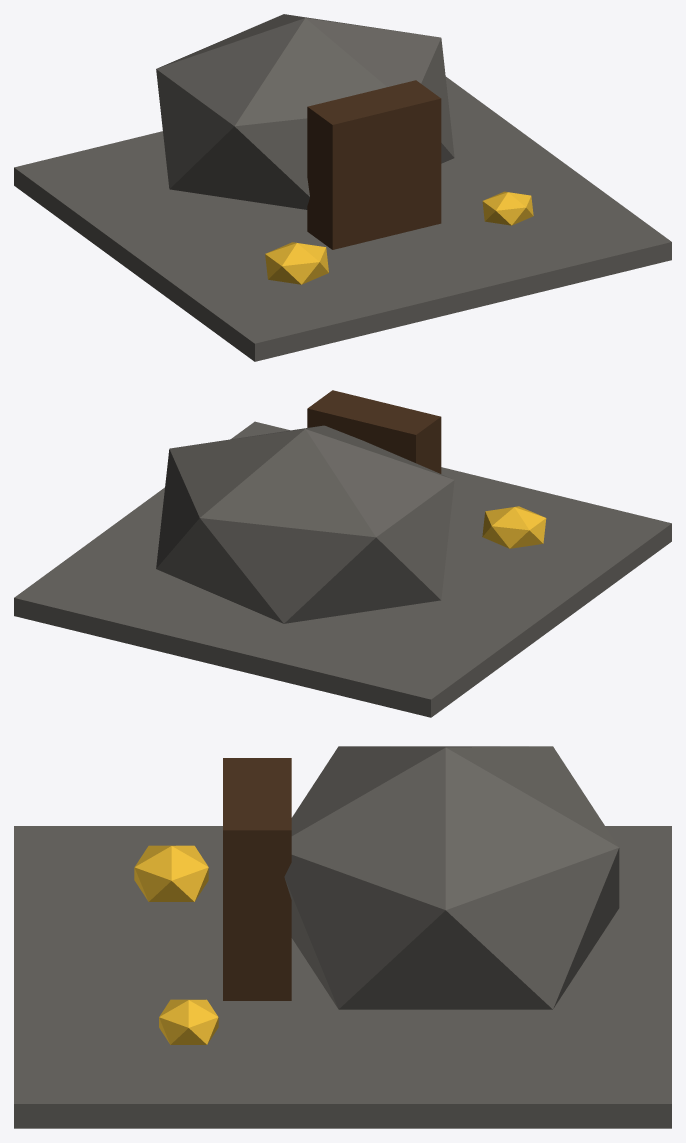
Rendered from goldmine.glb.
The picture shows the model from 3 angles, top to bottom: view 1: azimuth 30°, elevation 25°; view 2: azimuth 150°, elevation 25°; view 3: azimuth 270°, elevation 25°; orthographic projection. The views are drawn at different scales.
Parts seen in each view (by area): view 1: goldmine; view 2: goldmine; view 3: goldmine.
Part boxes in pixels (x1,y1,x2,y2): goldmine: [14, 14, 671, 361]; goldmine: [14, 390, 671, 717]; goldmine: [14, 746, 671, 1128].
Size of the model in its own units: 1.92 by 0.84 by 1.92.
